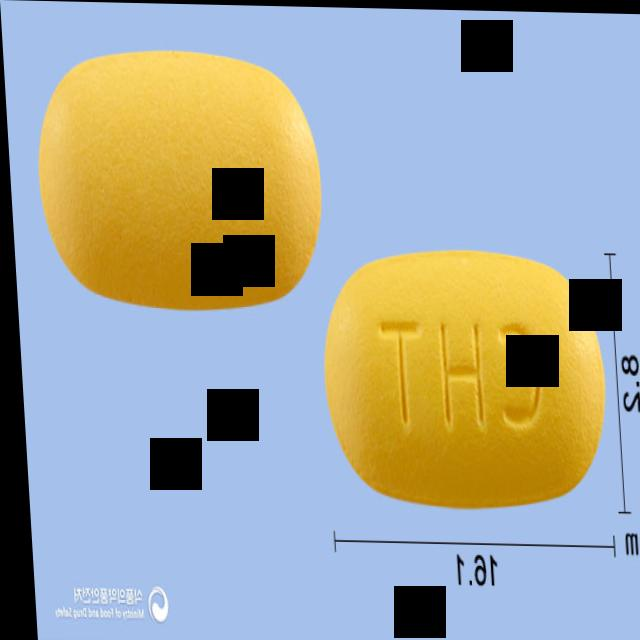Croracin: (29, 44, 325, 313), (313, 244, 606, 507)
